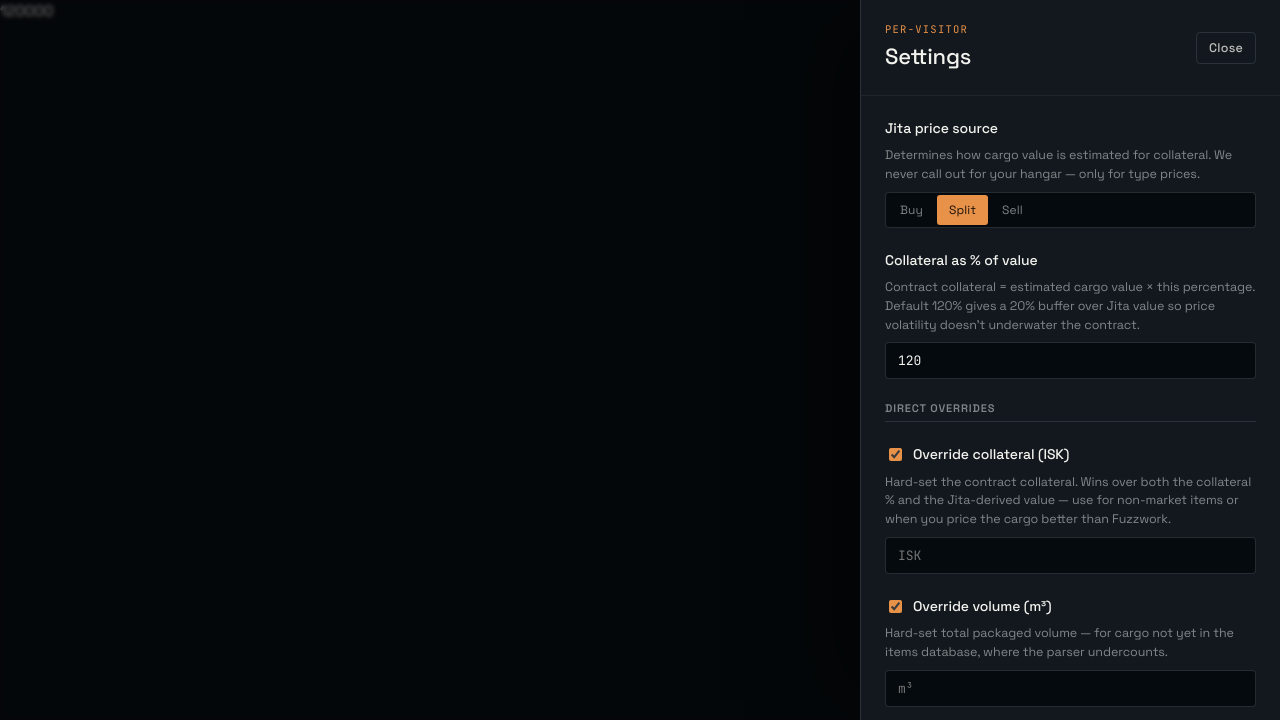
Test case: SettingsDrawer — override shorthand inputs (#37) › commits 350k as 350_000
Type "350k" into the field with placeholder "ISK".
click(1070, 555); type("350k")  # box x1=885 y1=537 x2=1256 y2=574
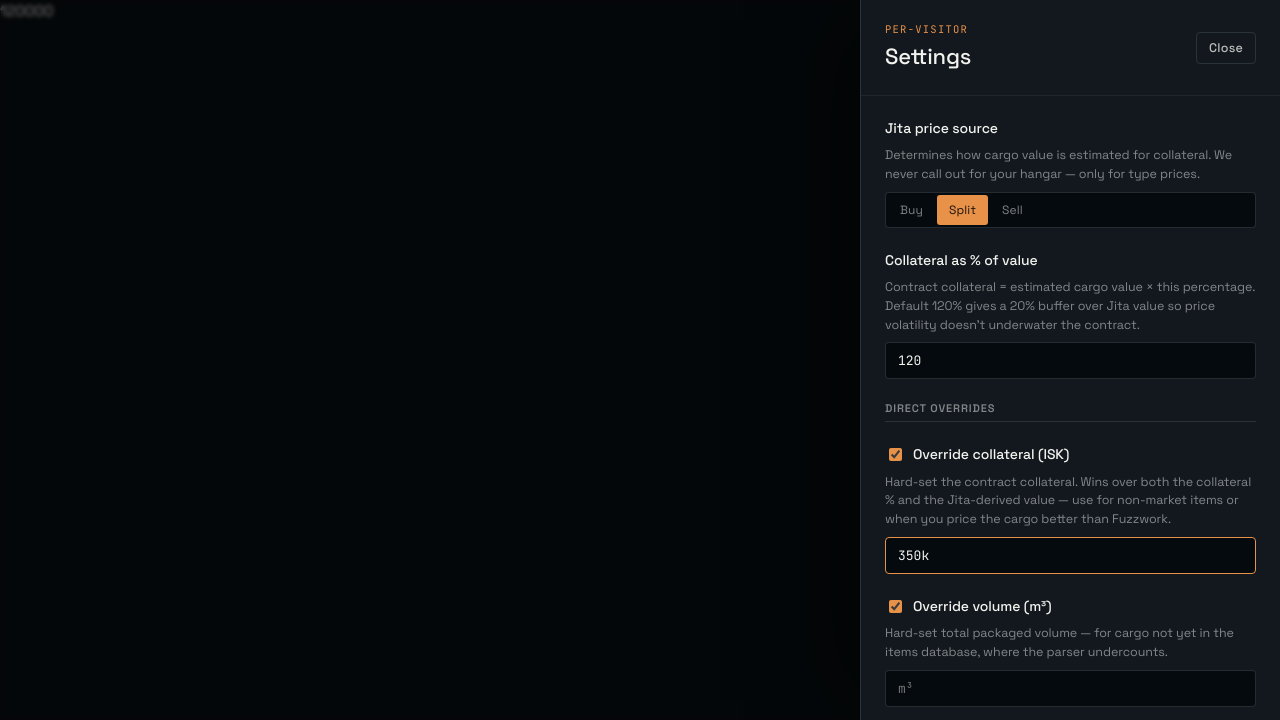
Press Tab
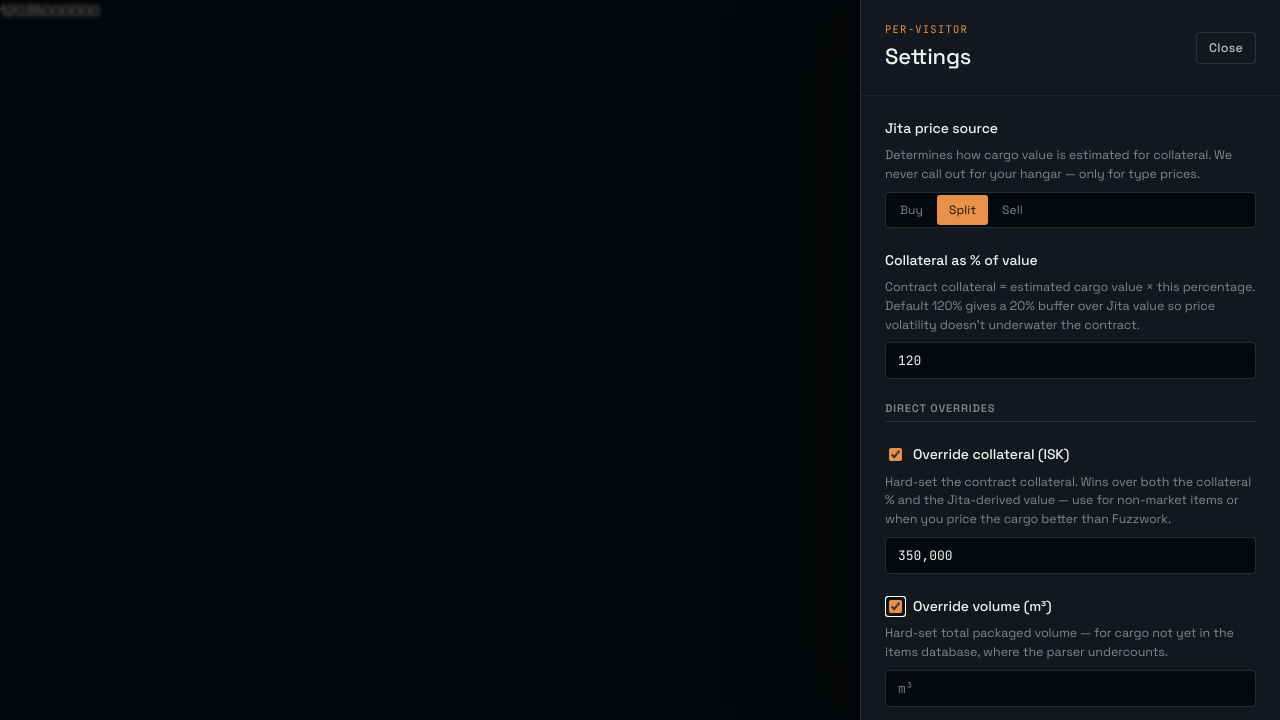
Check: the text with test id "coll-value" reads "350000", box x1=25 y1=1 x2=81 y2=20
